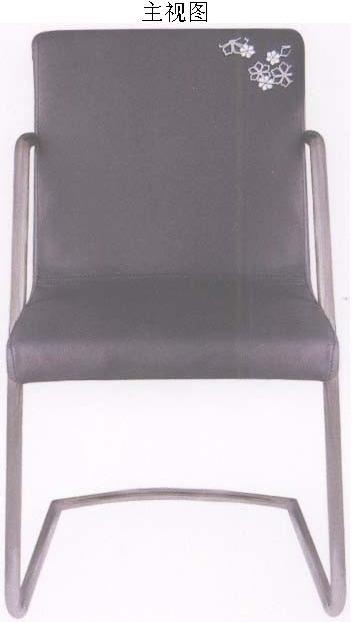obstacle: (5, 29, 344, 616)
